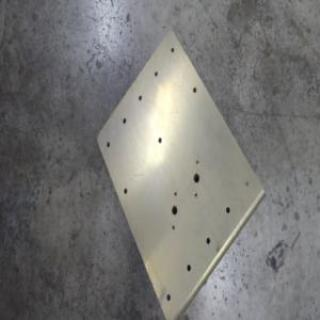MetalSheettrack_idkeyframe: (94, 27, 264, 319)
